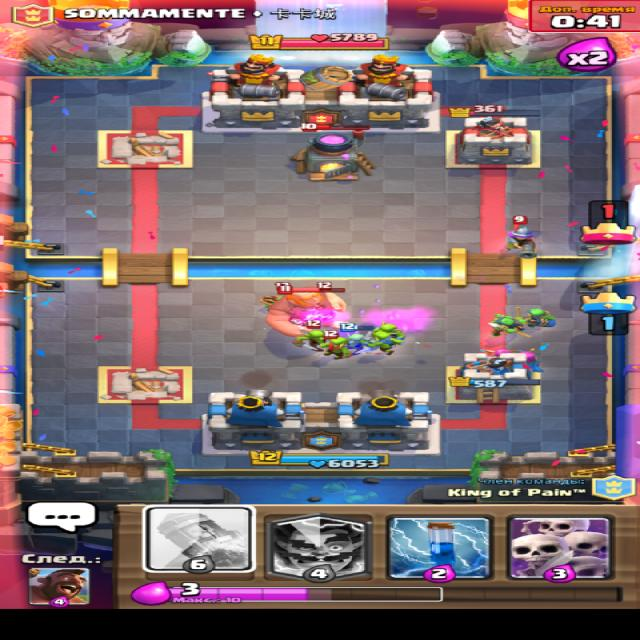Enemy-Giant: (261, 285, 347, 337)
Enemy-Goblin: (290, 319, 326, 352), (317, 329, 353, 360)
Enemy-Musketeer: (500, 214, 541, 259)
Enemy-SpearGoblin: (256, 294, 281, 308)
Player-Archer: (517, 347, 543, 371), (480, 348, 513, 356)
Player-Goblin: (338, 322, 378, 352), (360, 329, 403, 355), (373, 321, 404, 338)
Player-SpearGoblin: (484, 312, 531, 338), (513, 305, 556, 328)
